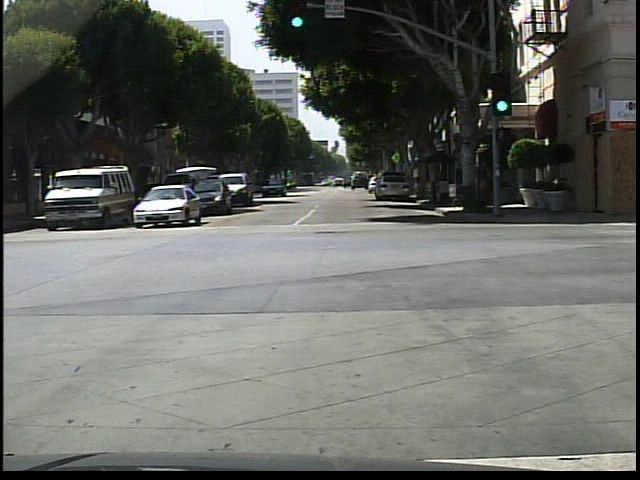person: (427, 165, 441, 205), (479, 161, 490, 211)
